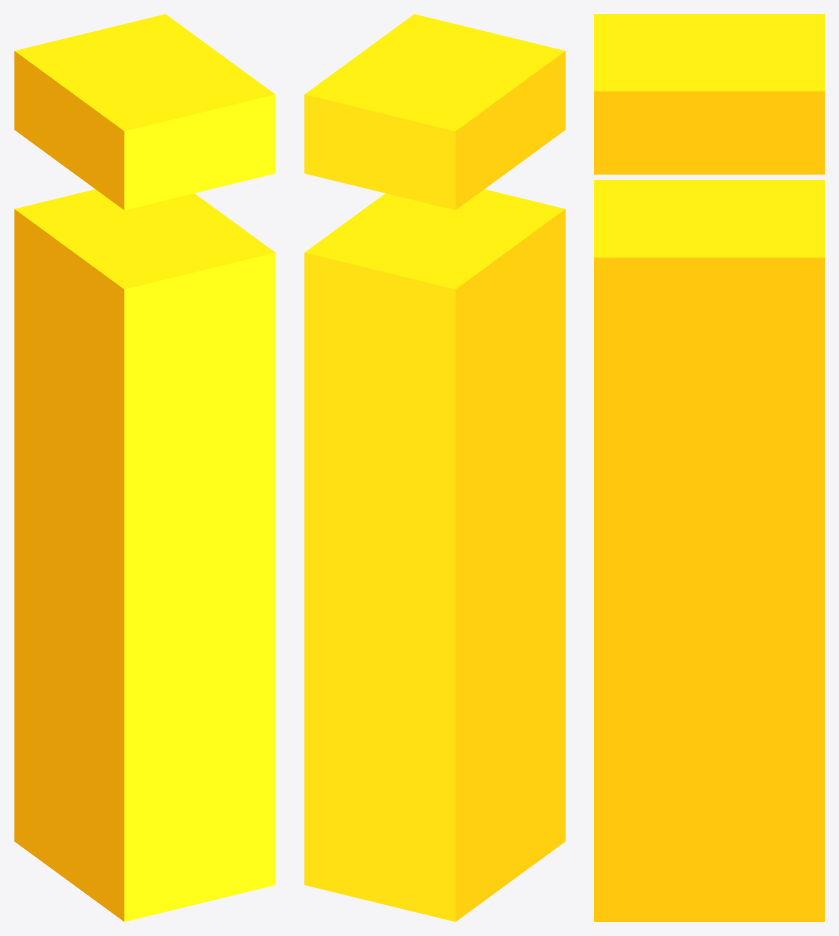
The model's file is I_DeltaBlock_Yellow.glb.
3 renders of one model, left to right at view 1: azimuth 30°, elevation 25°; view 2: azimuth 150°, elevation 25°; view 3: azimuth 270°, elevation 25°, orthographic. The views are drawn at different scales.
Parts seen in each view (by area): view 1: i_DeltaBlock_Yellow; view 2: i_DeltaBlock_Yellow; view 3: i_DeltaBlock_Yellow.
Boxes of the visible parts, <box> form: i_DeltaBlock_Yellow: <box>14,14,275,921</box>; i_DeltaBlock_Yellow: <box>304,14,565,921</box>; i_DeltaBlock_Yellow: <box>594,14,824,921</box>.
Size of what is drawn, in the model's own units: 0.0357 by 0.1786 by 0.045.
Materials: 2 (2 with a texture image).
